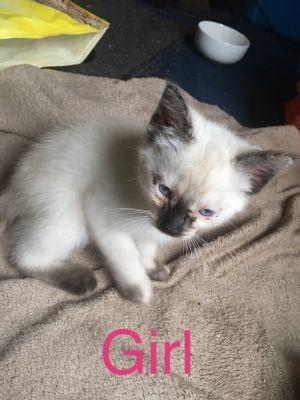siamese: (122, 77, 300, 259)
